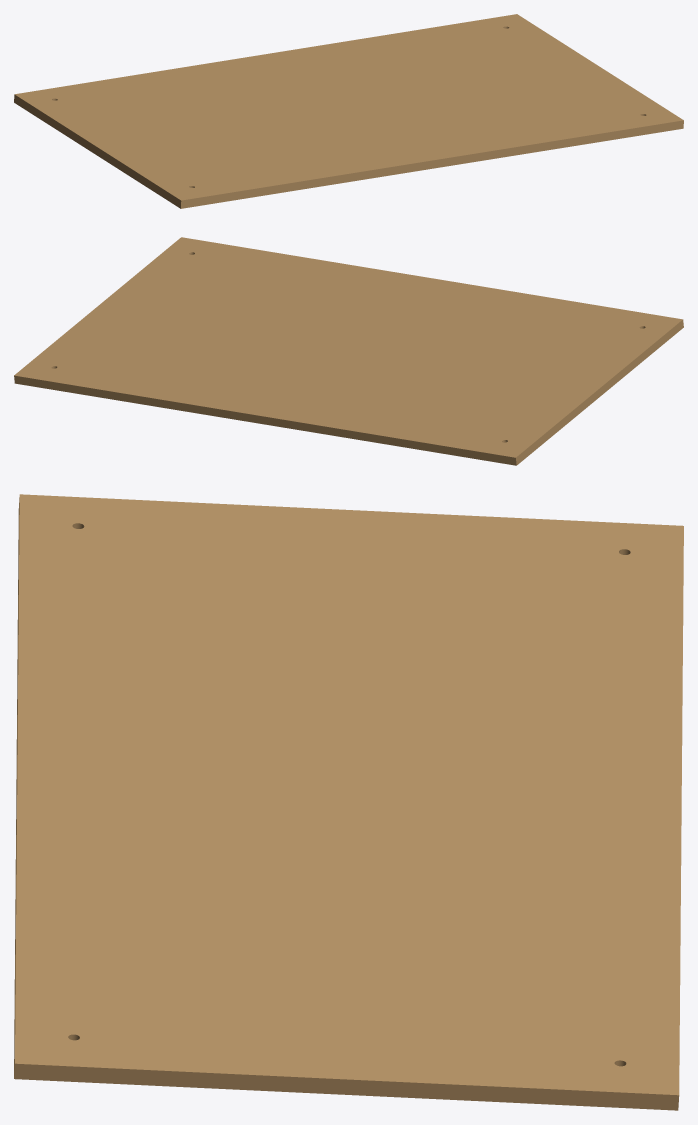
File: bandeja_placa.glb
3 views of the same model, one above another, from view 1: azimuth 30°, elevation 25°; view 2: azimuth 150°, elevation 25°; view 3: azimuth 270°, elevation 25° (orthographic). The views are drawn at different scales.
Parts seen in each view (by area): view 1: bandeja_placa; view 2: bandeja_placa; view 3: bandeja_placa.
Boxes of the visible parts, left/top/right/bottom form: bandeja_placa: left=14, top=14, right=683, bottom=208; bandeja_placa: left=14, top=237, right=683, bottom=465; bandeja_placa: left=14, top=494, right=683, bottom=1110.
Size of the model in its own units: 391 by 48.46 by 227.
